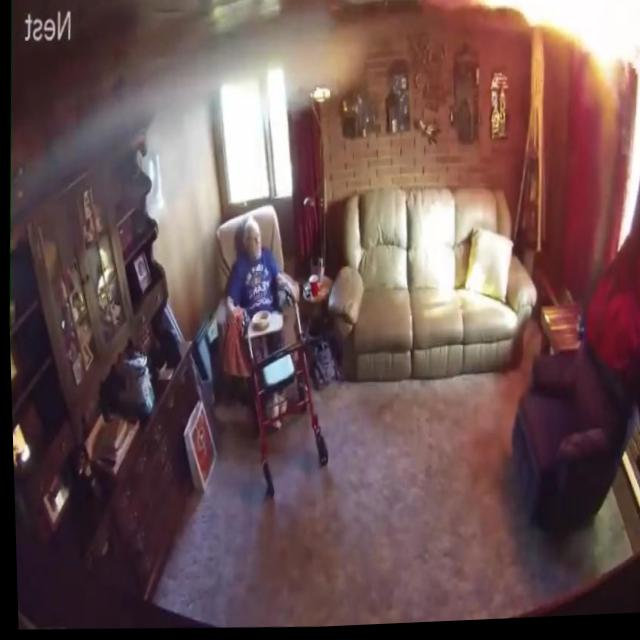fire: (478, 0, 640, 73)
